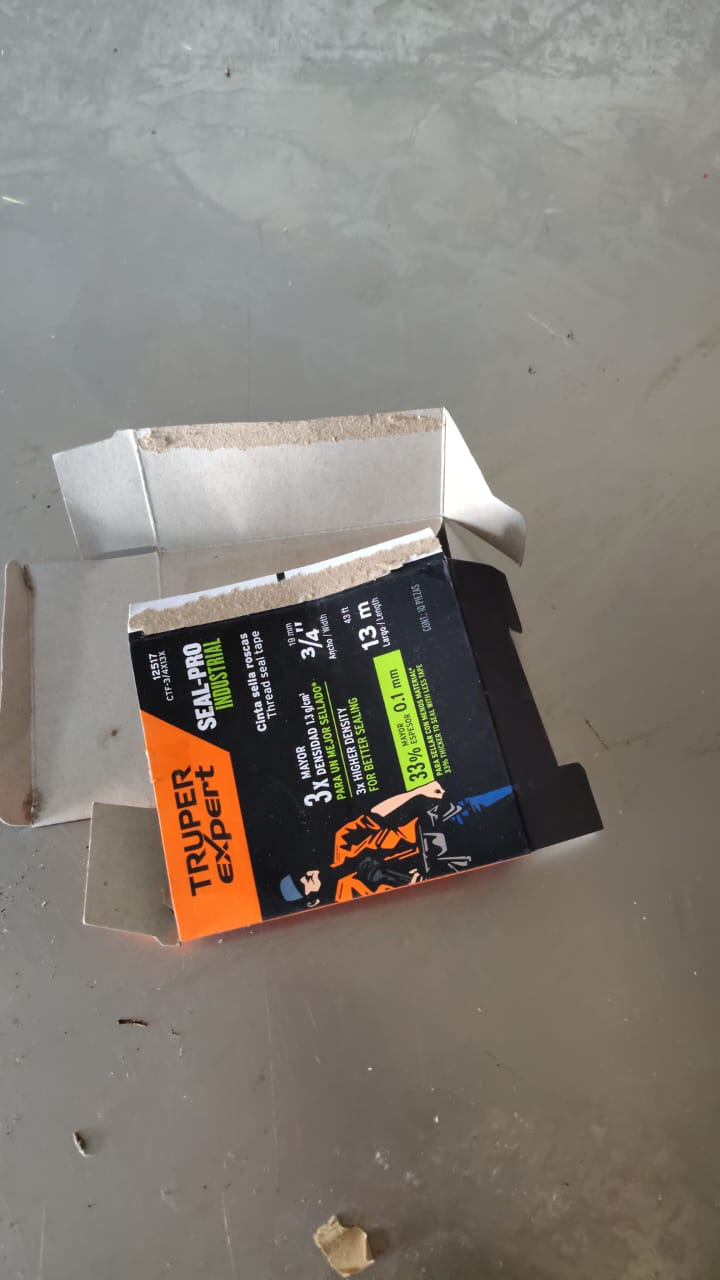Carton: (5, 407, 602, 950)
